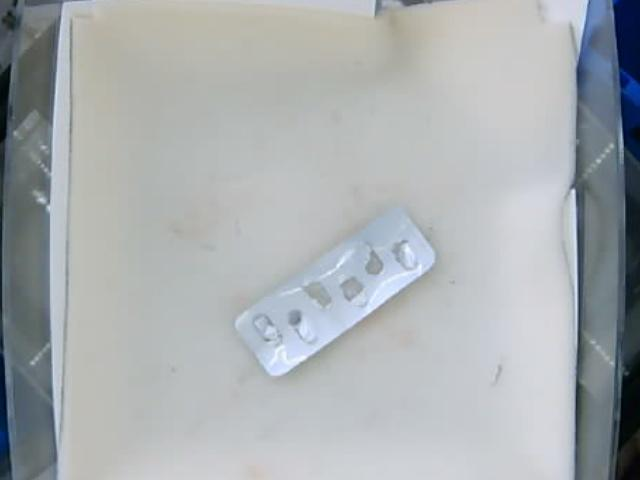Medicine: (237, 207, 438, 378)
